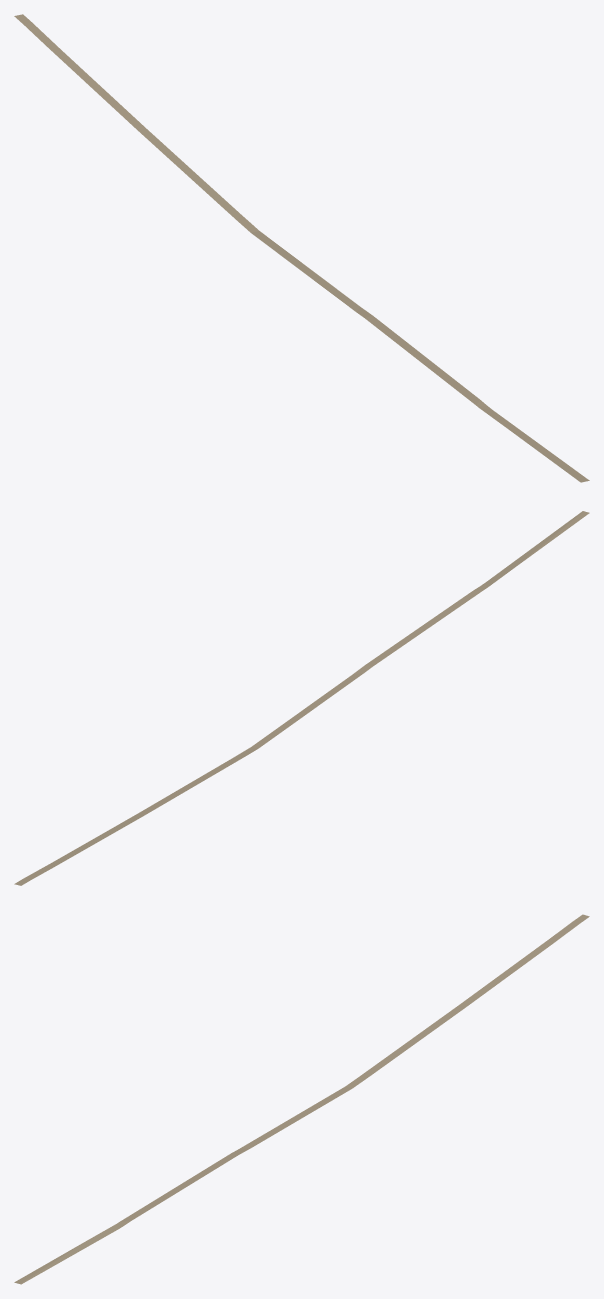
File: farm_-6_10_track.glb
The picture shows the model from 3 angles, top to bottom: view 1: azimuth 30°, elevation 25°; view 2: azimuth 150°, elevation 25°; view 3: azimuth 330°, elevation 25°; orthographic projection. The views are drawn at different scales.
Parts seen in each view (by area): view 1: geometry_0; view 2: geometry_0; view 3: geometry_0.
Part boxes in pixels (bbox=[...]): geometry_0: bbox=[14, 14, 589, 482]; geometry_0: bbox=[14, 511, 589, 885]; geometry_0: bbox=[14, 914, 589, 1284].
Bounding box in the file's own units: 23.99 × 8.44 × 400.
